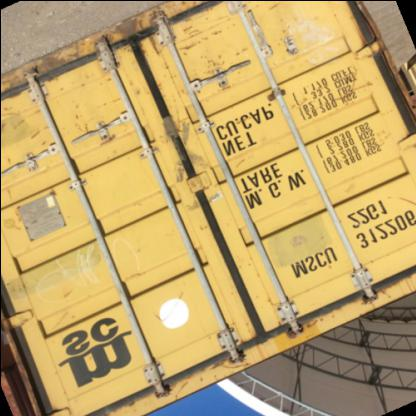Damage: (1, 49, 75, 97), (171, 18, 228, 58), (281, 310, 344, 346), (329, 71, 371, 118), (152, 278, 190, 328), (207, 356, 255, 382), (171, 370, 209, 400), (26, 119, 56, 154), (109, 14, 139, 46), (1, 201, 28, 236), (375, 192, 413, 216), (356, 286, 390, 312), (70, 98, 92, 136), (198, 60, 226, 82), (51, 312, 81, 332), (112, 394, 142, 414), (1, 102, 20, 133), (119, 265, 146, 285), (94, 58, 112, 88), (96, 95, 122, 113), (26, 93, 42, 118), (232, 43, 250, 63), (124, 78, 141, 98), (241, 2, 256, 24), (130, 241, 146, 261), (194, 221, 210, 240), (143, 36, 158, 56), (265, 4, 281, 22), (78, 66, 89, 90), (59, 289, 75, 304), (260, 298, 274, 310), (160, 60, 168, 76)
